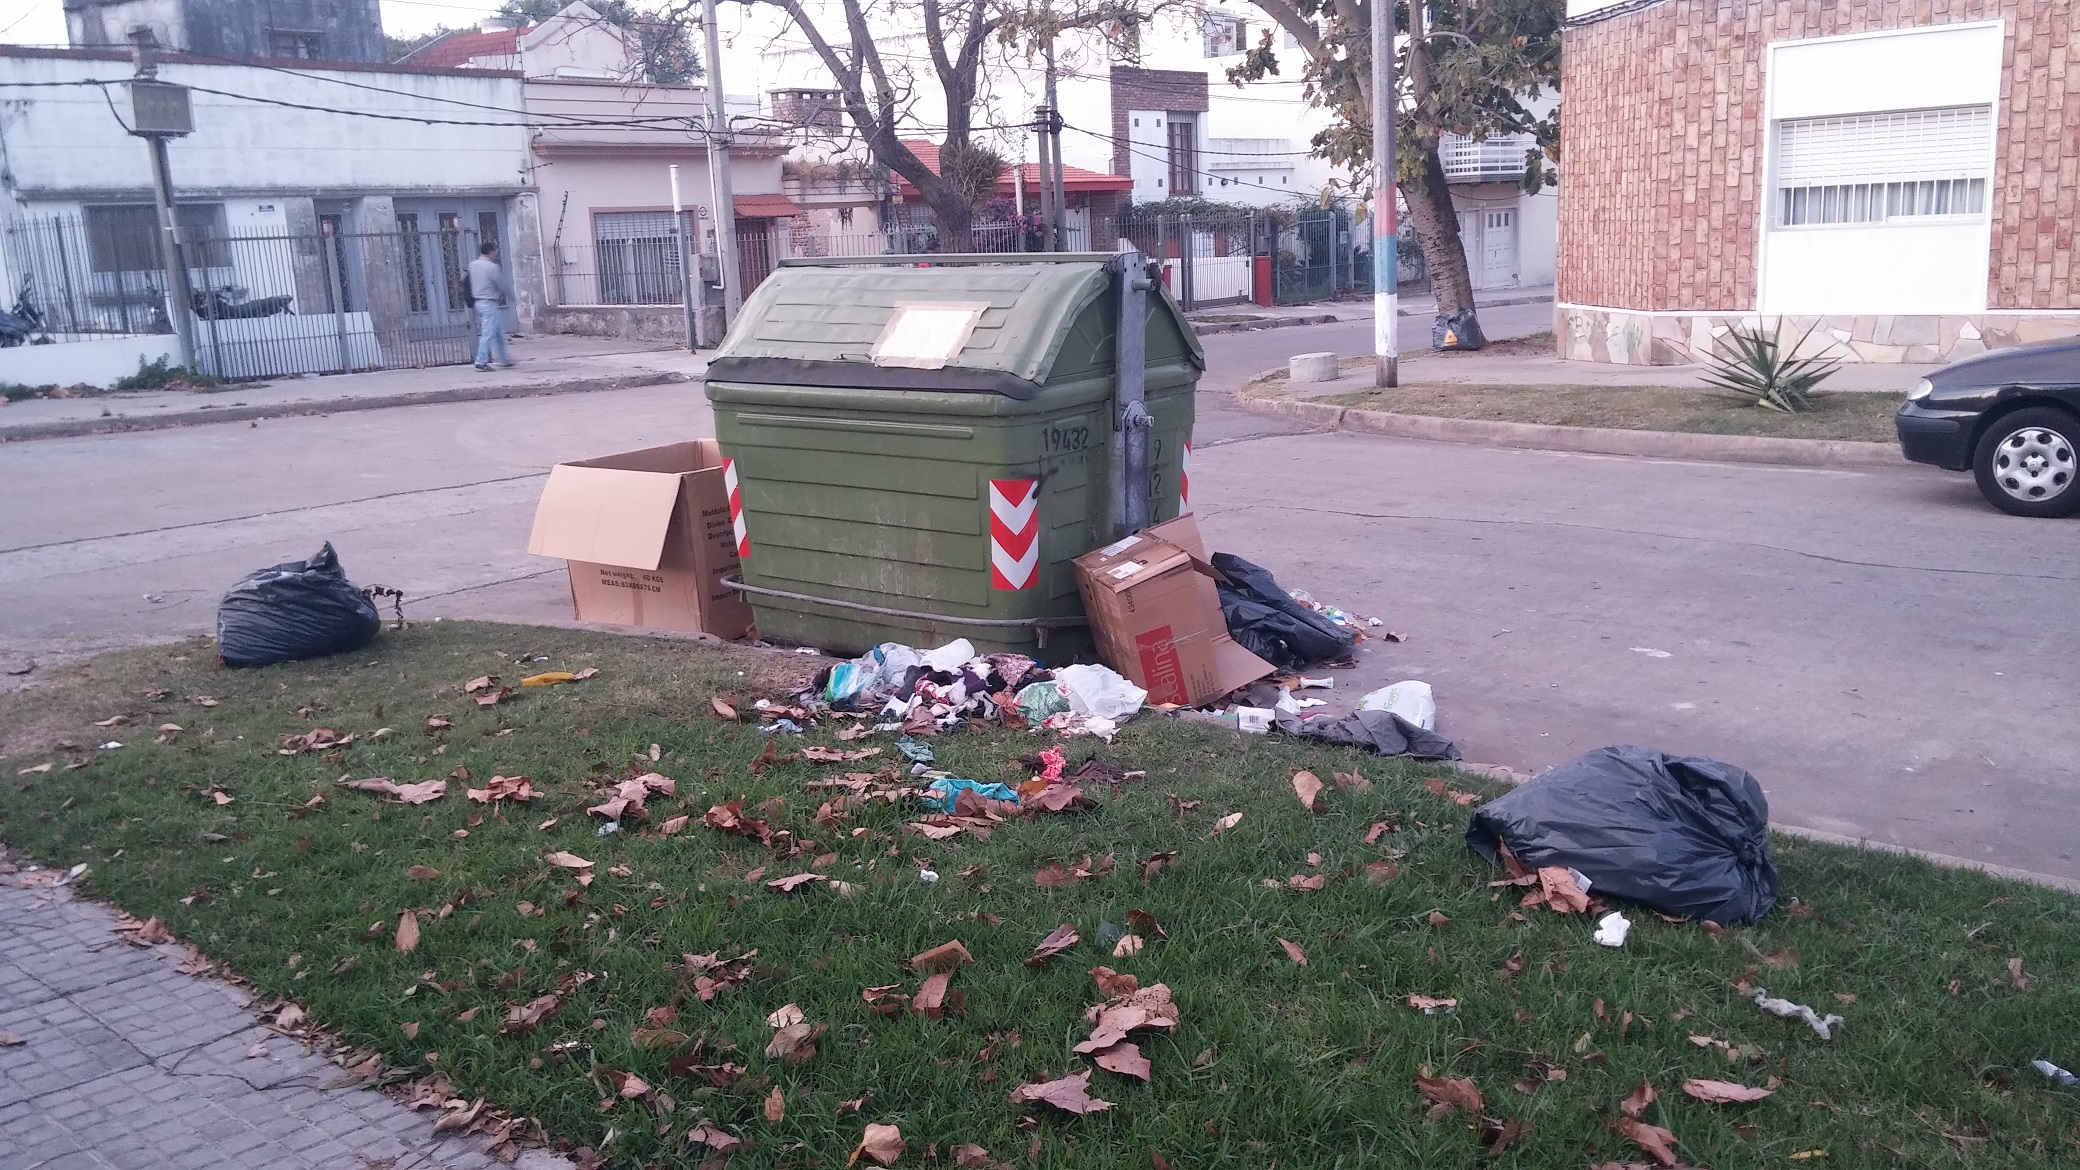container: (693, 231, 1219, 681)
